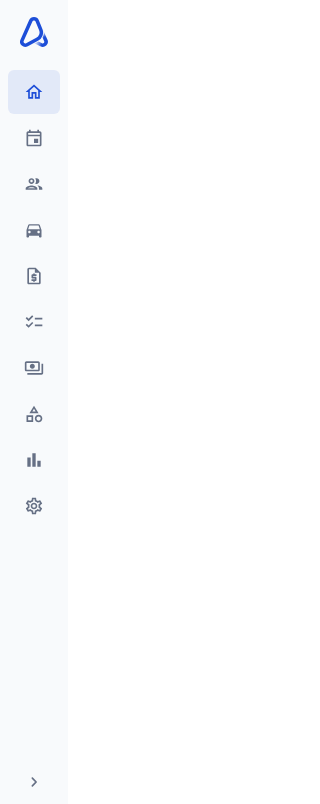
Scenario: barra lateral recolhida › Financeiro abre um menu com Extrato, Recebimentos e Pagamentos e navega pelo subitem
Click the button named "Financeiro" at (34, 368), box x1=24 y1=358 x2=44 y2=378
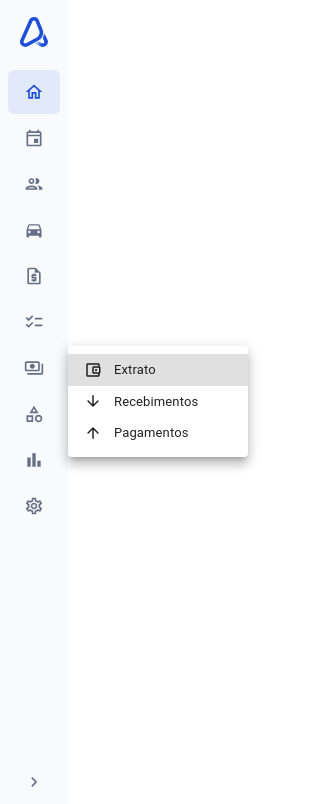
Result: the menu items read "Extrato", "Recebimentos", "Pagamentos", in this order
Click the menu item "Recebimentos" at (141, 401), box x1=84 y1=392 x2=198 y2=410
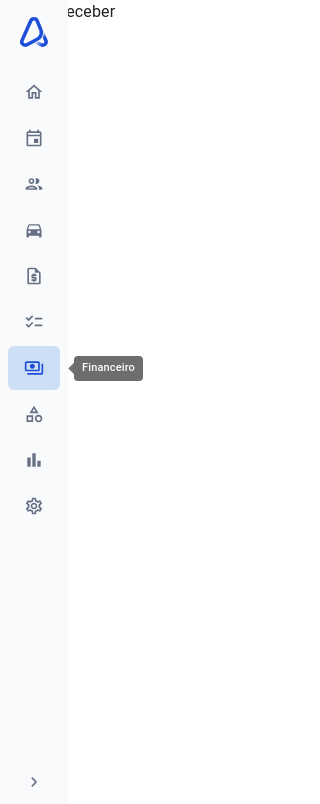
Result: the text with test id "onde" reads "/contas-receber" at x1=0 y1=2 x2=115 y2=21
Result: the menu is gone
